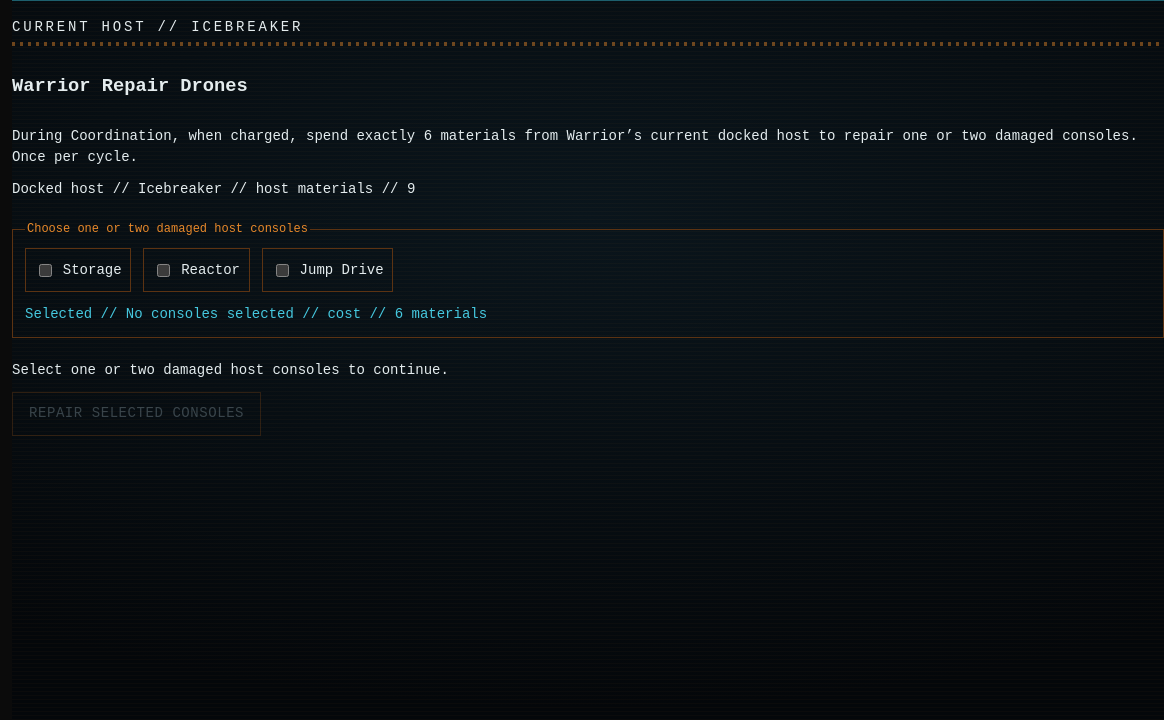
exposes the charged repair and submits one or two selected current-host consoles
Expected: the text "Docked host // Icebreaker // host materials // 9" is shown, [12,181,415,197]
Expected: the button "Repair selected consoles" is disabled, [12,392,261,436]
Click the checkbox labelled "Storage" at (45, 270), box [39,264,52,276]
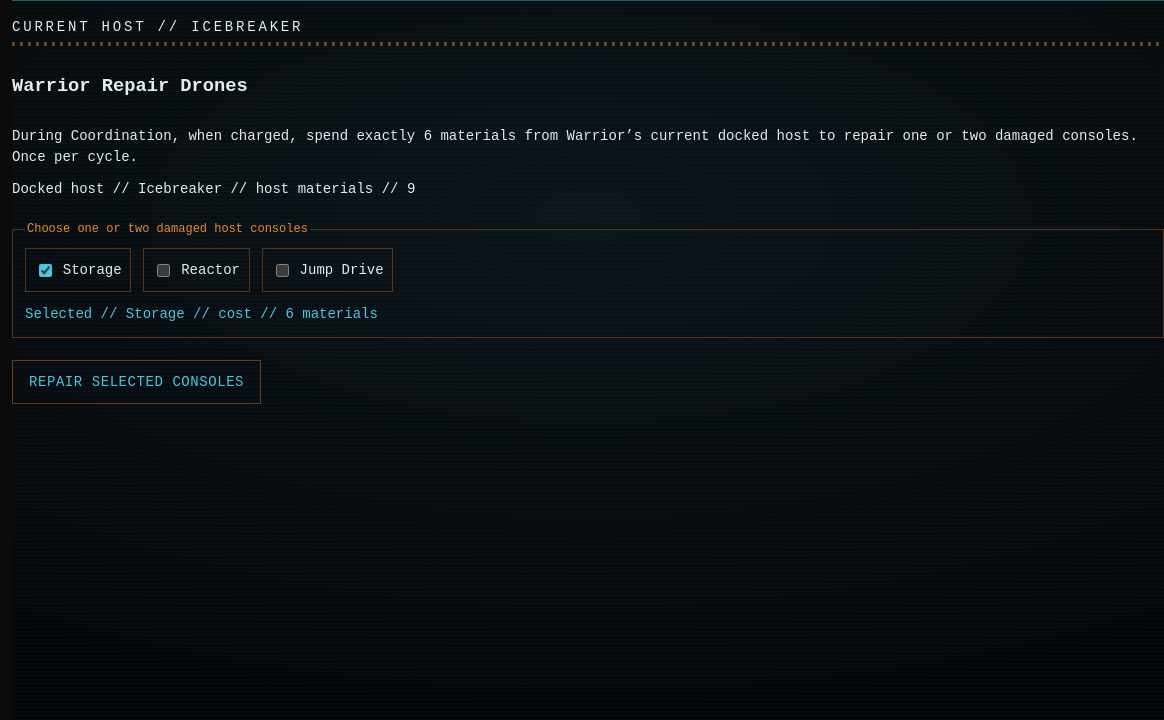
Result: the button "Repair selected consoles" is enabled at [12,360,261,404]
Click the checkbox labelled "Reactor" at (164, 270), box [157,264,170,276]
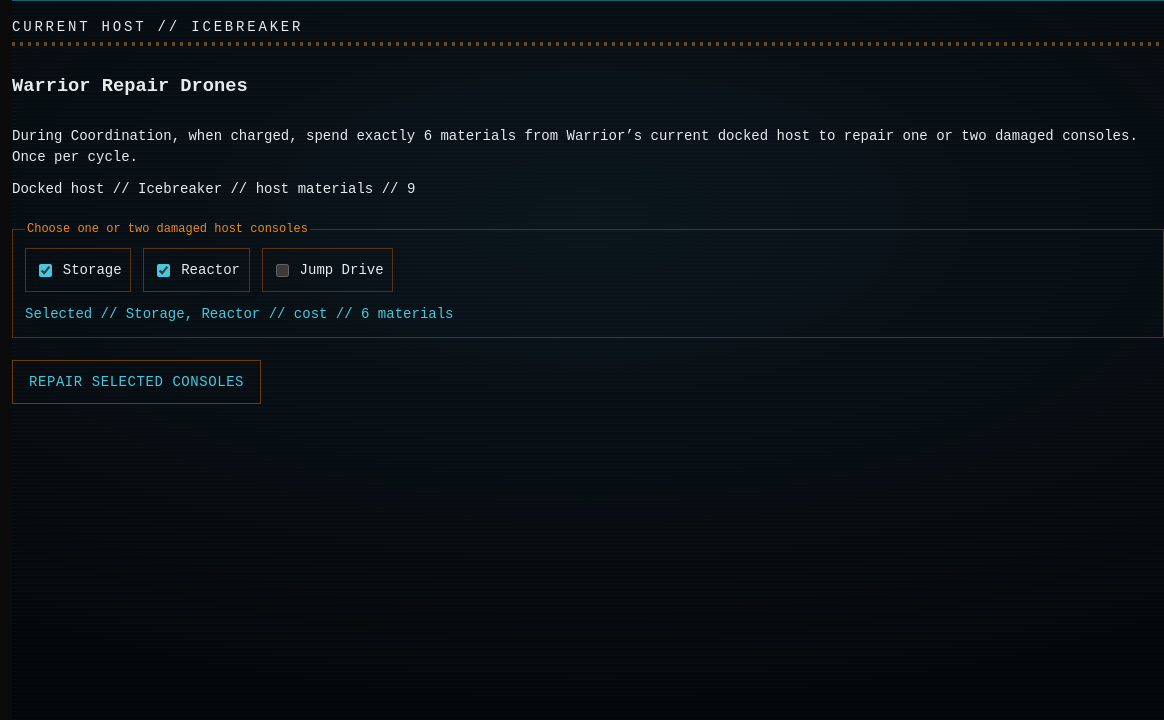
Result: the button "Repair selected consoles" is enabled
Click the button "Repair selected consoles" at (137, 382), box [12,360,261,404]
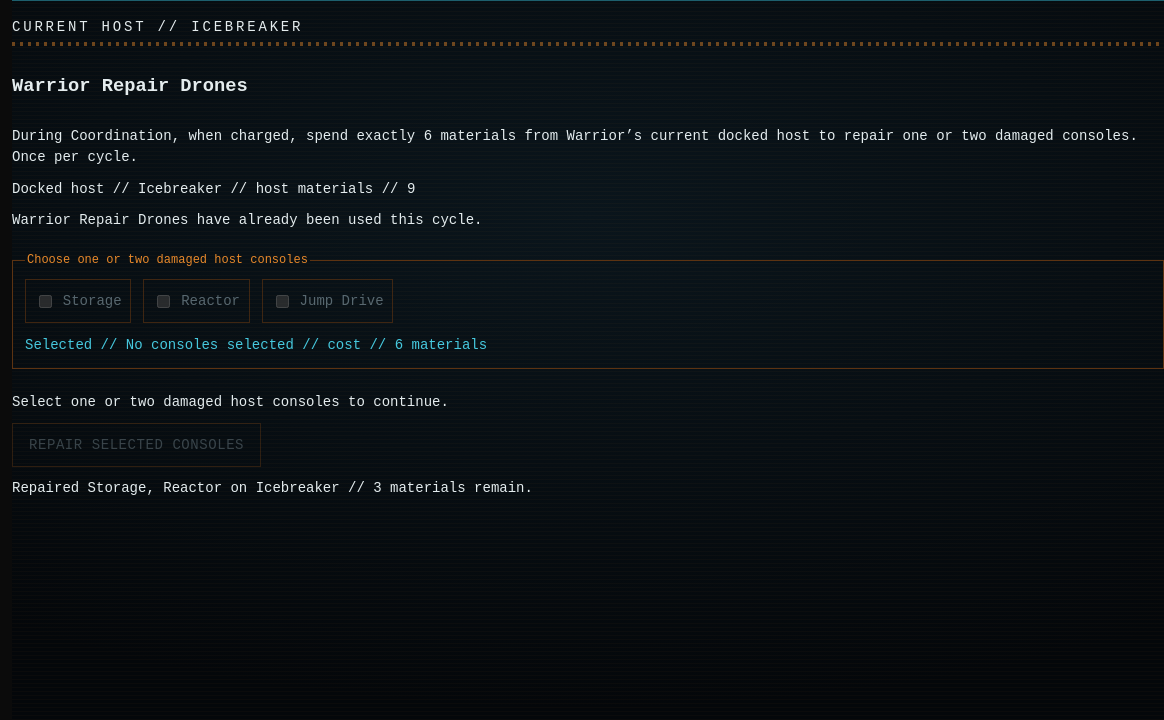
Result: the text "Repaired Storage, Reactor on Icebreaker // 3 materials remain." is shown at [12,480,533,496]
Result: the text "Warrior Repair Drones have already been used this cycle." is shown at [12,212,482,228]
